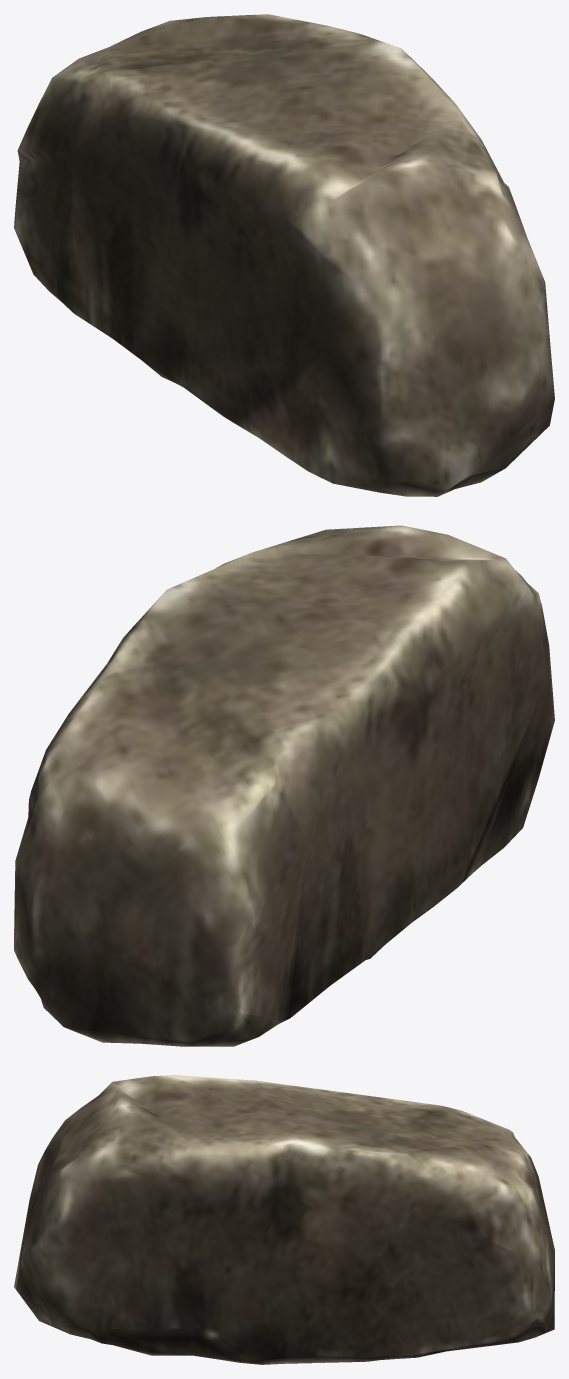
Rendered from ShiTou_2.fbx.
The picture shows the model from 3 angles, top to bottom: view 1: azimuth 30°, elevation 25°; view 2: azimuth 150°, elevation 25°; view 3: azimuth 270°, elevation 25°; orthographic projection. The views are drawn at different scales.
Visible parts, largest first — view 1: SM_RP_Vol_01_14; view 2: SM_RP_Vol_01_14; view 3: SM_RP_Vol_01_14.
Part boxes in pixels (x1,y1,x2,y2): SM_RP_Vol_01_14: [14, 14, 554, 496]; SM_RP_Vol_01_14: [14, 525, 554, 1046]; SM_RP_Vol_01_14: [14, 1075, 554, 1364].
Size of the model in its own units: 20.9 by 22.93 by 49.46.
